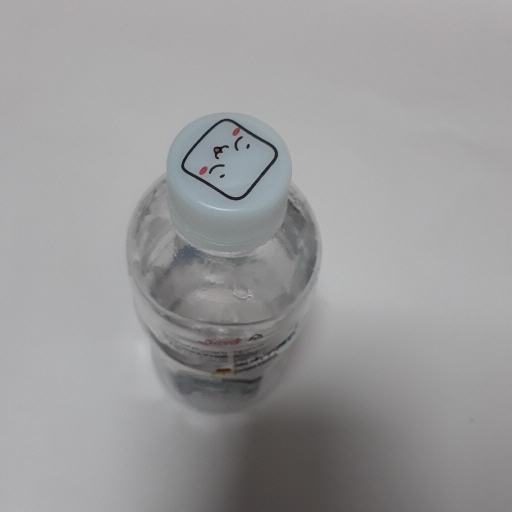Plastic_0: (121, 109, 325, 413)
